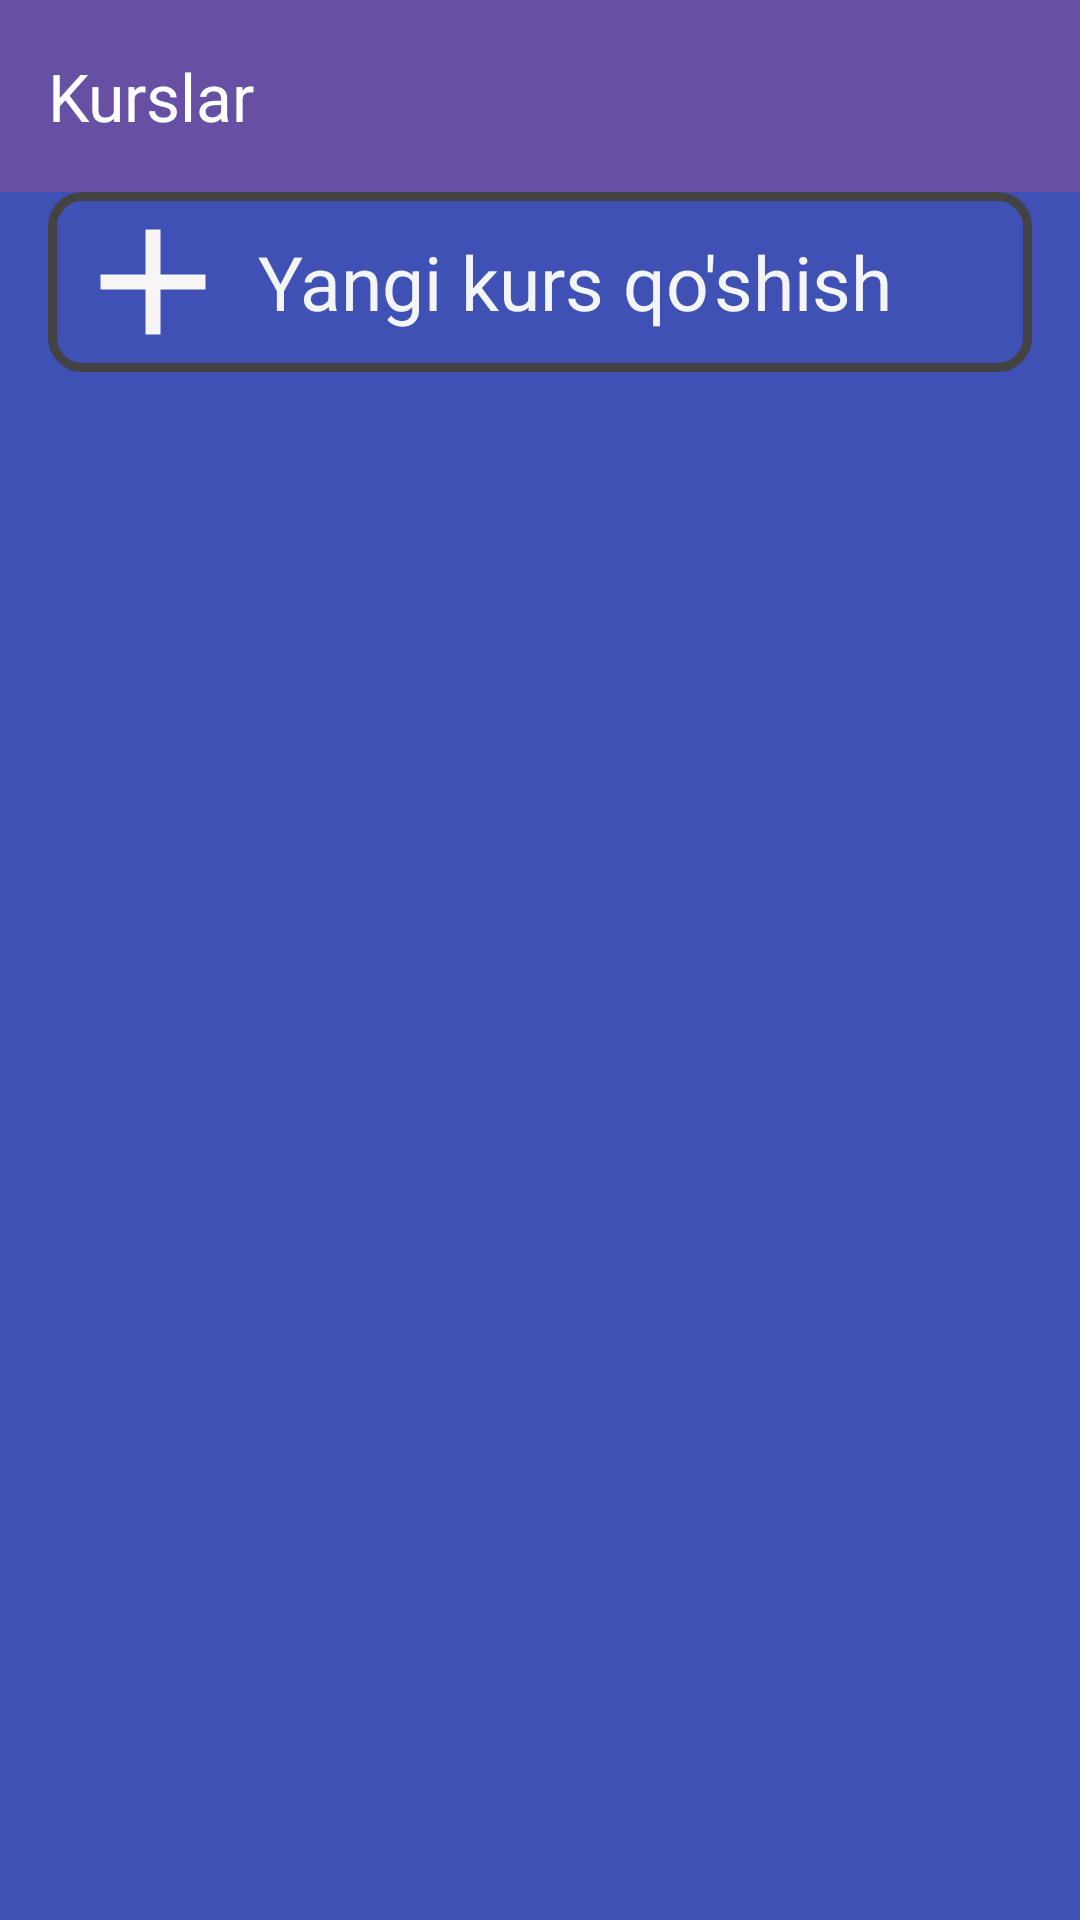

Locate icon controls on the screen. Image size 1080px×1920px, boxes as region(x1, y1, x2, y2).
add: region(48, 192, 258, 372)
